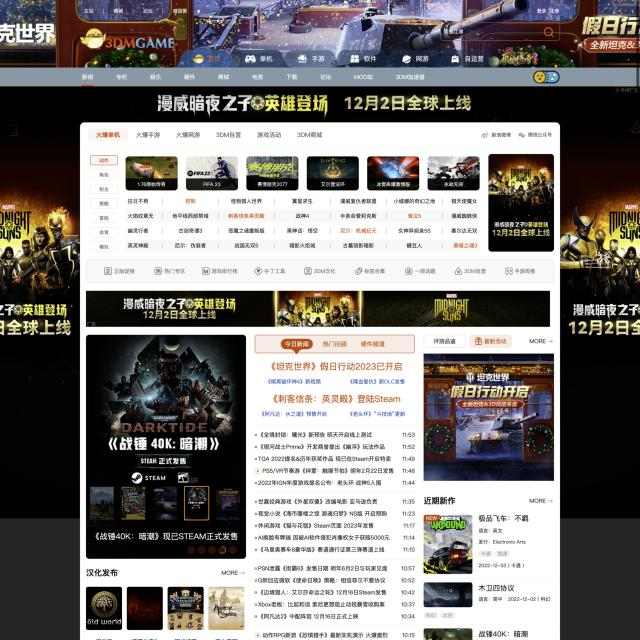logo: (76, 27, 176, 53)
navigation: (79, 68, 429, 86), (101, 265, 538, 276), (88, 127, 324, 144)
